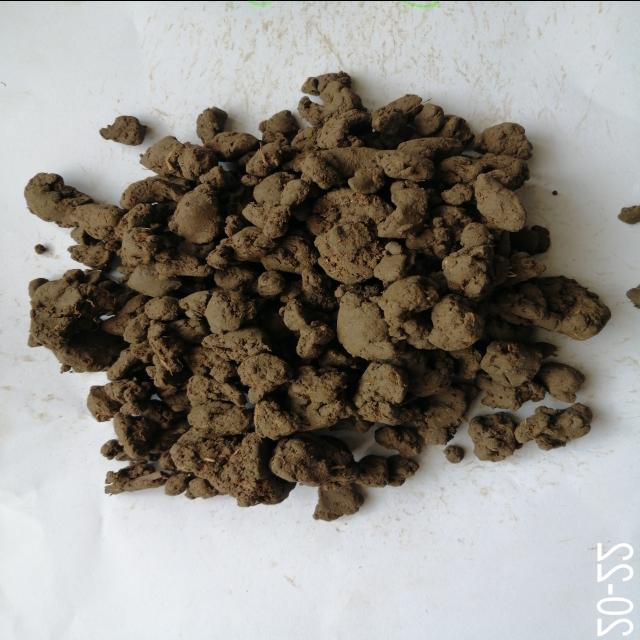soil: (133, 183, 522, 427)
